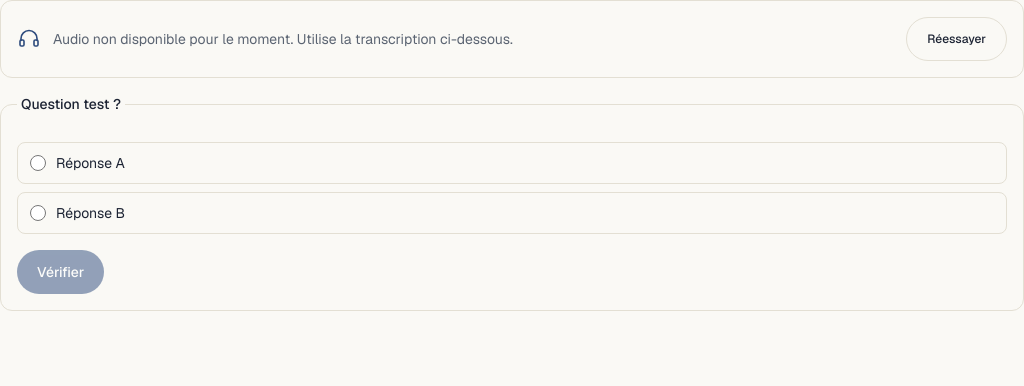
Test: AudioExercise › lets the learner retry after an error, restoring a fresh audio element from the start of the cycle
Click the button "Réessayer" at (957, 39), box [906,17,1007,61]
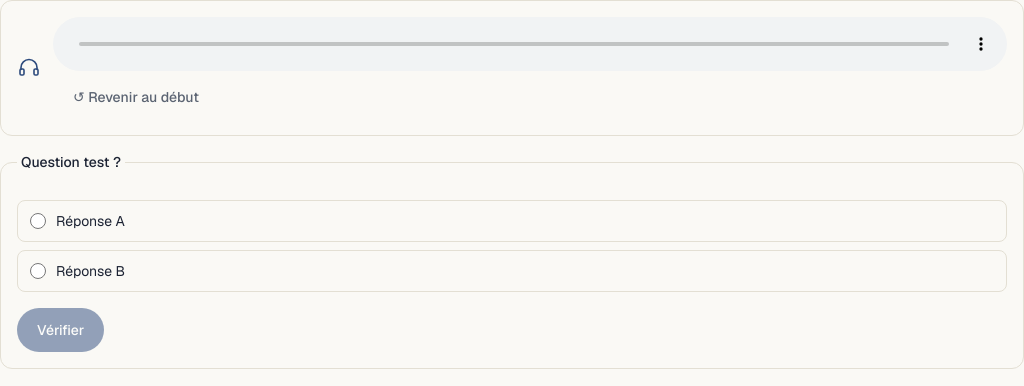
Result: the text "Audio non disponible" is gone
